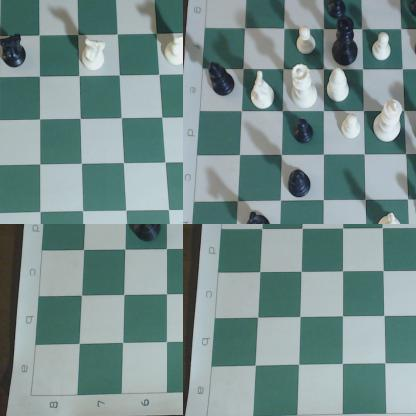black-bishop: (210, 62, 236, 98), (288, 167, 314, 202)
black-king: (336, 15, 359, 68), (129, 225, 173, 246)
black-knight: (1, 31, 30, 71), (246, 211, 274, 224)
black-pawn: (295, 119, 320, 151), (323, 1, 349, 19), (404, 1, 416, 21)
white-bishop: (327, 69, 353, 106)
white-king: (375, 104, 405, 144)
white-knight: (77, 33, 112, 75), (247, 70, 278, 111), (163, 33, 183, 70), (378, 212, 407, 224)
white-pawn: (370, 31, 397, 68), (294, 22, 318, 56), (340, 116, 366, 146)
white-queen: (290, 65, 319, 109)
